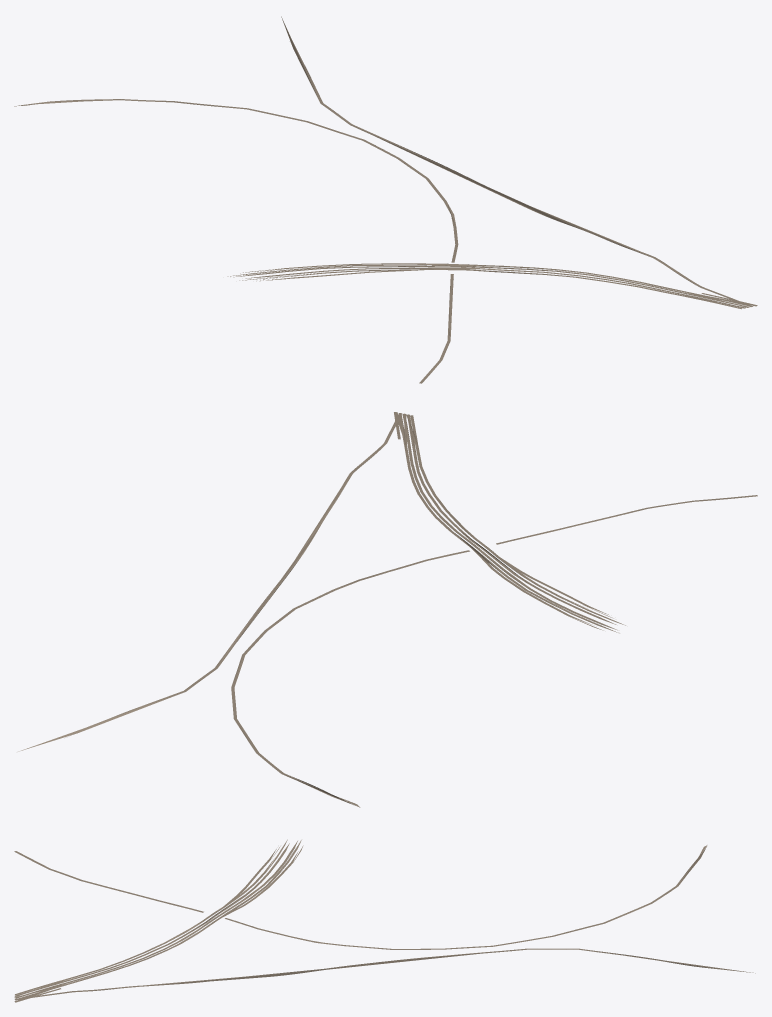
File: rail_3_0.glb
3 renders of one model, top to bottom at view 1: azimuth 30°, elevation 25°; view 2: azimuth 150°, elevation 25°; view 3: azimuth 270°, elevation 25°, orthographic. The views are drawn at different scales.
Visible parts, largest first — view 1: geometry_0; view 2: geometry_0; view 3: geometry_0.
Part boxes in pixels (<box>): geometry_0: <box>14,16,757,383</box>; geometry_0: <box>18,412,757,807</box>; geometry_0: <box>14,839,755,1002</box>.
Bounding box in the file's own units: 568 × 8.95 × 1084.
